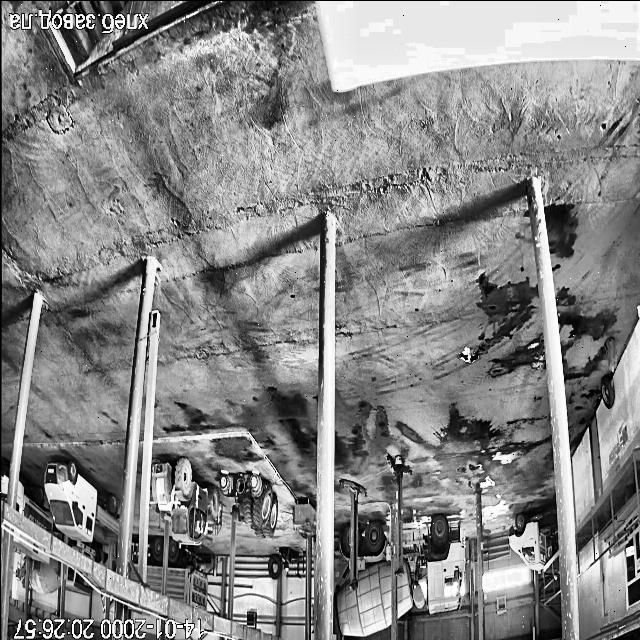car lift: (340, 479, 366, 588), (388, 455, 411, 574)
tractor: (151, 458, 222, 544), (220, 474, 278, 537)
truck: (396, 516, 464, 616), (334, 522, 392, 636), (44, 460, 119, 540), (167, 539, 207, 611), (508, 514, 550, 570), (16, 483, 52, 532), (30, 558, 60, 594), (146, 538, 163, 591), (12, 538, 48, 562), (66, 567, 92, 595), (72, 541, 102, 560), (0, 466, 8, 500), (132, 543, 140, 563), (19, 564, 24, 587), (130, 570, 136, 580)
